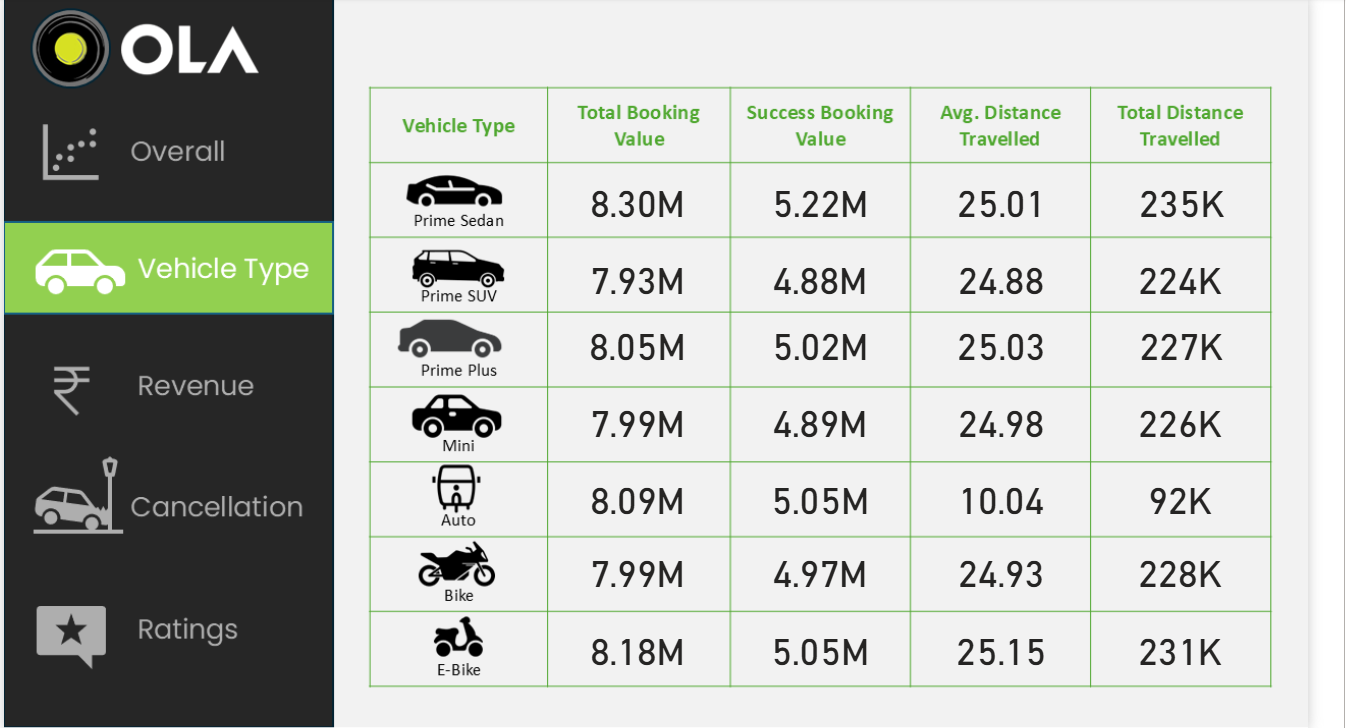

This screenshot's page, from the dashboard's own definition file:
{"tool":"powerbi","page":{"name":"Vehicle Type","canvas":[1280,720],"ordinal":1},"visuals":[{"type":"actionButton","box":[0,111.7,321.5,89.6],"z":0},{"type":"actionButton","box":[0,439.3,321.5,132.5],"z":1000},{"type":"actionButton","box":[0,333.7,321.5,105.5],"z":2000},{"type":"actionButton","box":[0,571.8,321.5,132.5],"z":3000},{"type":"card","fields":{"Values":["Sum(Bookings.Booking_Value)"]},"box":[532.5,242.5,178.8,65],"z":4000},{"type":"card","fields":{"Values":["Sum(Bookings.Booking_Value)"]},"box":[532.5,307.5,178.8,65],"z":5000},{"type":"card","fields":{"Values":["Sum(Bookings.Booking_Value)"]},"box":[532.5,383.8,178.8,65],"z":6000},{"type":"card","fields":{"Values":["Sum(Bookings.Booking_Value)"]},"box":[532.5,458.8,178.8,65],"z":7000},{"type":"card","fields":{"Values":["Sum(Bookings.Booking_Value)"]},"box":[532.5,531.2,178.8,65],"z":8000},{"type":"card","fields":{"Values":["Sum(Bookings.Booking_Value)"]},"box":[532.5,607.5,178.8,65],"z":9000},{"type":"card","fields":{"Values":["Sum(Bookings.Booking_Value)"]},"box":[711.2,167.5,178.8,65],"z":10000},{"type":"card","fields":{"Values":["Sum(Bookings.Booking_Value)"]},"box":[711.2,242.5,178.8,65],"z":11000},{"type":"card","fields":{"Values":["Sum(Bookings.Booking_Value)"]},"box":[711.2,307.5,178.8,65],"z":12000},{"type":"card","fields":{"Values":["Sum(Bookings.Booking_Value)"]},"box":[711.2,383.8,178.8,65],"z":13000},{"type":"card","fields":{"Values":["Sum(Bookings.Booking_Value)"]},"box":[711.2,458.8,178.8,65],"z":14000},{"type":"card","fields":{"Values":["Sum(Bookings.Booking_Value)"]},"box":[711.2,531.2,178.8,65],"z":15000},{"type":"card","fields":{"Values":["Sum(Bookings.Booking_Value)"]},"box":[711.2,607.5,178.8,65],"z":16000},{"type":"card","fields":{"Values":["Avg(Bookings.Ride_Distance)"]},"box":[890,167.5,178.8,65],"z":17000},{"type":"card","fields":{"Values":["Avg(Bookings.Ride_Distance)"]},"box":[890,242.5,178.8,65],"z":18000},{"type":"card","fields":{"Values":["Avg(Bookings.Ride_Distance)"]},"box":[890,307.5,178.8,65],"z":19000},{"type":"card","fields":{"Values":["Avg(Bookings.Ride_Distance)"]},"box":[890,383.8,178.8,65],"z":20000},{"type":"card","fields":{"Values":["Avg(Bookings.Ride_Distance)"]},"box":[890,458.8,178.8,65],"z":21000},{"type":"card","fields":{"Values":["Avg(Bookings.Ride_Distance)"]},"box":[890,531.2,178.8,65],"z":22000},{"type":"card","fields":{"Values":["Avg(Bookings.Ride_Distance)"]},"box":[890,607.5,178.8,65],"z":23000},{"type":"card","fields":{"Values":["Sum(Bookings.Ride_Distance)"]},"box":[1068.8,167.5,175,65],"z":24000},{"type":"card","fields":{"Values":["Sum(Bookings.Ride_Distance)"]},"box":[1065,242.5,178.8,65],"z":25000},{"type":"card","fields":{"Values":["Sum(Bookings.Ride_Distance)"]},"box":[1066.2,307.5,178.8,65],"z":26000},{"type":"card","fields":{"Values":["Sum(Bookings.Ride_Distance)"]},"box":[1065,383.8,178.8,65],"z":27000},{"type":"card","fields":{"Values":["Sum(Bookings.Ride_Distance)"]},"box":[1065,458.8,178.8,65],"z":28000},{"type":"card","fields":{"Values":["Sum(Bookings.Ride_Distance)"]},"box":[1065,531.2,178.8,65],"z":29000},{"type":"card","fields":{"Values":["Sum(Bookings.Ride_Distance)"]},"box":[1065,607.5,178.8,65],"z":30000},{"type":"card","fields":{"Values":["Sum(Bookings.Booking_Value)"]},"box":[532.5,167.5,178.8,65],"z":31000}]}

Visuals, with their boxes on the page's 1280x720 design canvas (x1, y1, x2, y2). These are canvas units, not pixel positions in the 1346x728 screenshot, which may show the page scaled, cropped or inside an application window:
actionButton: pyautogui.locateOnScreen(0, 112, 322, 201)
actionButton: pyautogui.locateOnScreen(0, 439, 322, 572)
actionButton: pyautogui.locateOnScreen(0, 334, 322, 439)
actionButton: pyautogui.locateOnScreen(0, 572, 322, 704)
card - Sum(Bookings.Booking_Value): pyautogui.locateOnScreen(532, 242, 711, 308)
card - Sum(Bookings.Booking_Value): pyautogui.locateOnScreen(532, 308, 711, 372)
card - Sum(Bookings.Booking_Value): pyautogui.locateOnScreen(532, 384, 711, 449)
card - Sum(Bookings.Booking_Value): pyautogui.locateOnScreen(532, 459, 711, 524)
card - Sum(Bookings.Booking_Value): pyautogui.locateOnScreen(532, 531, 711, 596)
card - Sum(Bookings.Booking_Value): pyautogui.locateOnScreen(532, 608, 711, 672)
card - Sum(Bookings.Booking_Value): pyautogui.locateOnScreen(711, 168, 890, 232)
card - Sum(Bookings.Booking_Value): pyautogui.locateOnScreen(711, 242, 890, 308)
card - Sum(Bookings.Booking_Value): pyautogui.locateOnScreen(711, 308, 890, 372)
card - Sum(Bookings.Booking_Value): pyautogui.locateOnScreen(711, 384, 890, 449)
card - Sum(Bookings.Booking_Value): pyautogui.locateOnScreen(711, 459, 890, 524)
card - Sum(Bookings.Booking_Value): pyautogui.locateOnScreen(711, 531, 890, 596)
card - Sum(Bookings.Booking_Value): pyautogui.locateOnScreen(711, 608, 890, 672)
card - Avg(Bookings.Ride_Distance): pyautogui.locateOnScreen(890, 168, 1069, 232)
card - Avg(Bookings.Ride_Distance): pyautogui.locateOnScreen(890, 242, 1069, 308)
card - Avg(Bookings.Ride_Distance): pyautogui.locateOnScreen(890, 308, 1069, 372)
card - Avg(Bookings.Ride_Distance): pyautogui.locateOnScreen(890, 384, 1069, 449)
card - Avg(Bookings.Ride_Distance): pyautogui.locateOnScreen(890, 459, 1069, 524)
card - Avg(Bookings.Ride_Distance): pyautogui.locateOnScreen(890, 531, 1069, 596)
card - Avg(Bookings.Ride_Distance): pyautogui.locateOnScreen(890, 608, 1069, 672)
card - Sum(Bookings.Ride_Distance): pyautogui.locateOnScreen(1069, 168, 1244, 232)
card - Sum(Bookings.Ride_Distance): pyautogui.locateOnScreen(1065, 242, 1244, 308)
card - Sum(Bookings.Ride_Distance): pyautogui.locateOnScreen(1066, 308, 1245, 372)
card - Sum(Bookings.Ride_Distance): pyautogui.locateOnScreen(1065, 384, 1244, 449)
card - Sum(Bookings.Ride_Distance): pyautogui.locateOnScreen(1065, 459, 1244, 524)
card - Sum(Bookings.Ride_Distance): pyautogui.locateOnScreen(1065, 531, 1244, 596)
card - Sum(Bookings.Ride_Distance): pyautogui.locateOnScreen(1065, 608, 1244, 672)
card - Sum(Bookings.Booking_Value): pyautogui.locateOnScreen(532, 168, 711, 232)
